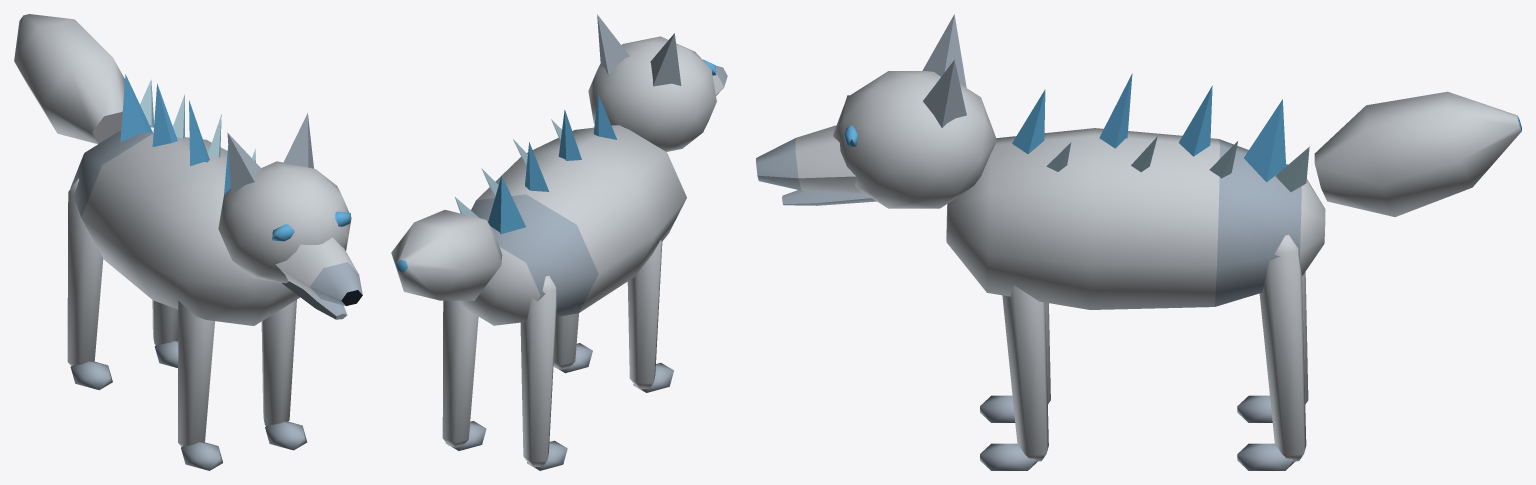
File: e_eis_eiswolf.glb
3 renders of one model, left to right at view 1: azimuth 30°, elevation 25°; view 2: azimuth 150°, elevation 25°; view 3: azimuth 270°, elevation 25°, orthographic. The views are drawn at different scales.
Parts seen in each view (by area): view 1: body; view 2: body; view 3: body.
Part boxes in pixels (x1=…): body: x1=14, y1=14, x2=362, y2=470; body: x1=391, y1=14, x2=727, y2=470; body: x1=756, y1=14, x2=1521, y2=470.
Bounding box in the file's own units: 0.52 × 1.09 × 1.84.
